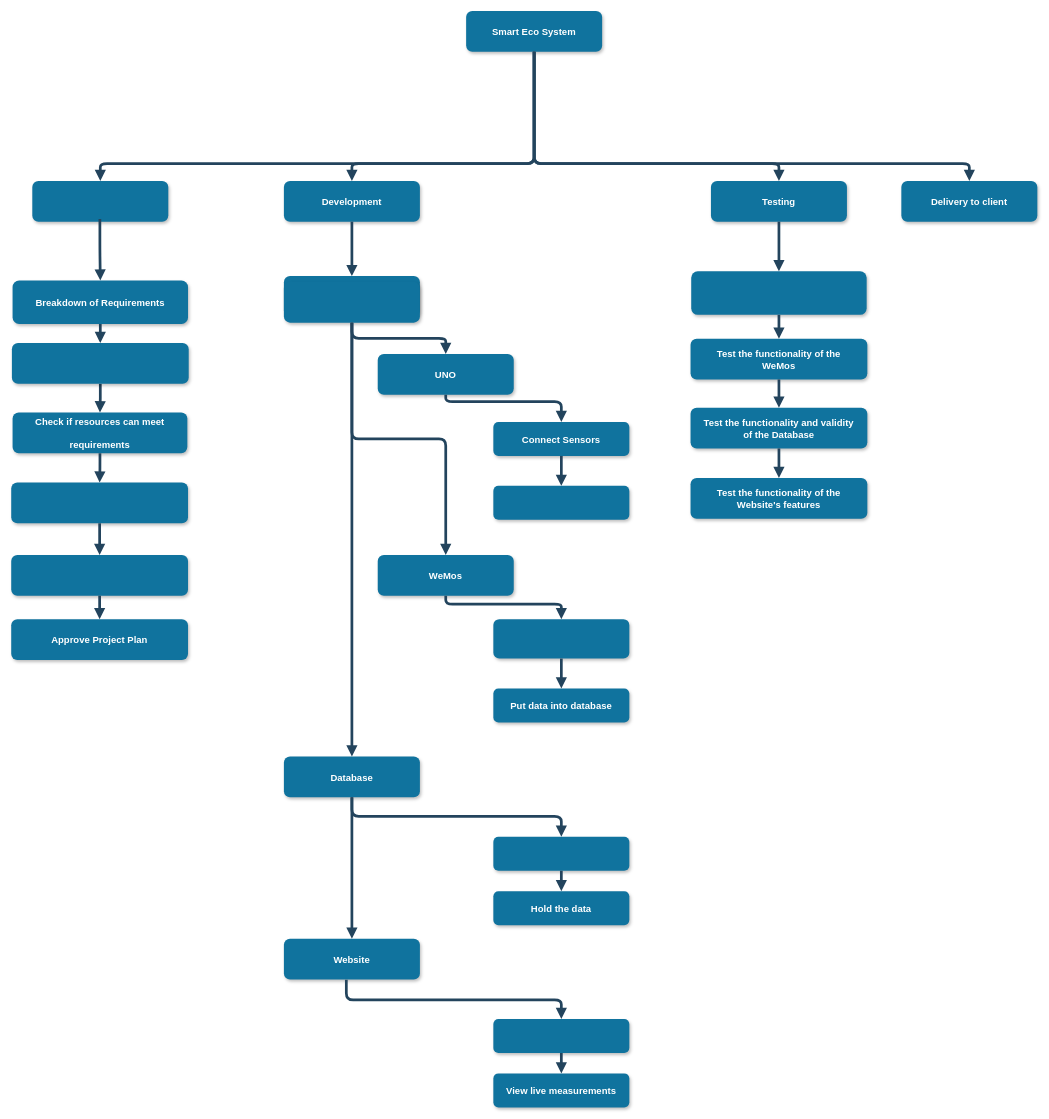
Some shapes in this 1049 by 1119 pixel diagram are drawn without their labels. Each missing label, with the centre of its shape:
"Arduino" belongs at point 352,303.
"Check available resources" belongs at point 100,364.
"Collect data produced from arduino" belongs at point 561,639.
"Create table and relationships" belongs at point 561,854.
"Develop Project Schedule" belongs at point 100,576.
"Plan how to use resources to meet requirements" belongs at point 100,503.
"Planning" belongs at point 100,202.
"Program Sensors" belongs at point 561,503.
"Test the functionality of the Arduino UNO" belongs at point 779,293.
"View data collected" belongs at point 561,1036.
